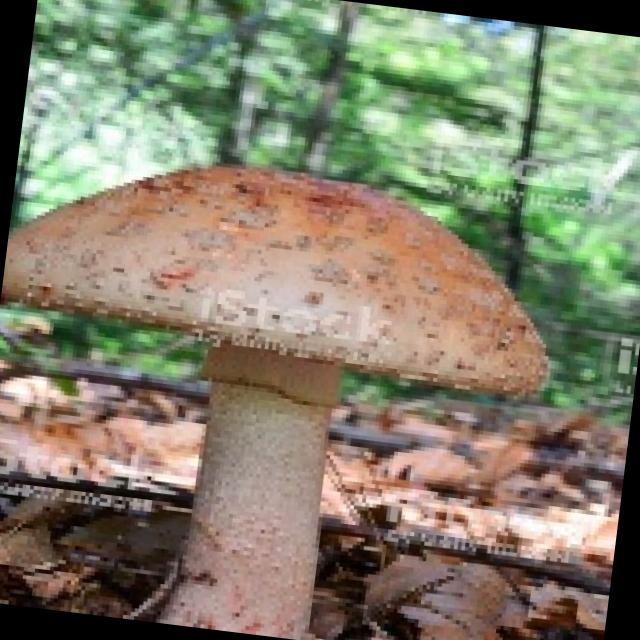mushroom: (0, 122, 564, 640)
